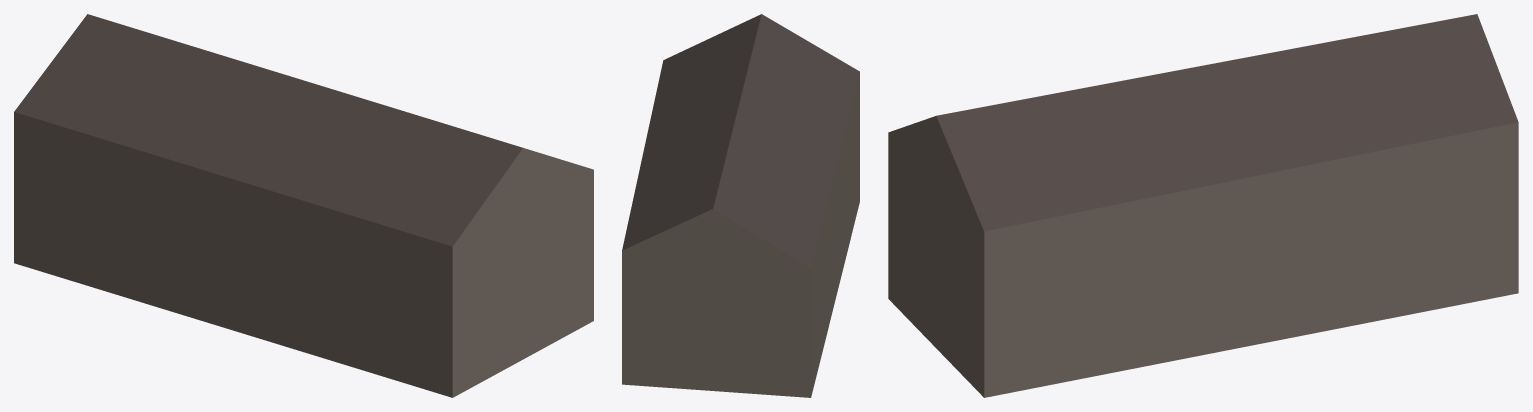
3 renders of one model, left to right at view 1: azimuth 30°, elevation 25°; view 2: azimuth 150°, elevation 25°; view 3: azimuth 270°, elevation 25°, orthographic. The views are drawn at different scales.
Visible parts, largest first — view 1: HP-w505653363; view 2: HP-w505653363; view 3: HP-w505653363.
Boxes of the visible parts, x1,y1,x2,y2 form: HP-w505653363: (14, 14, 593, 397); HP-w505653363: (622, 14, 859, 397); HP-w505653363: (888, 14, 1518, 397).
Bounding box in the file's own units: 23.38 × 12.58 × 30.9.
